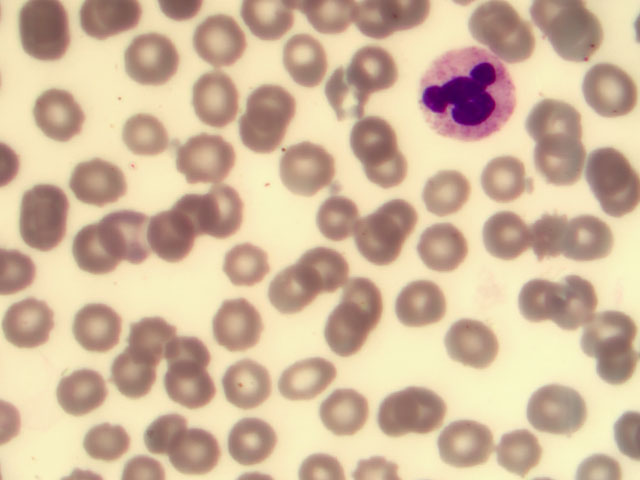RBC: (19, 13, 74, 68), (123, 32, 178, 87), (37, 87, 92, 142), (117, 109, 172, 164), (178, 129, 233, 184), (188, 66, 243, 121), (192, 15, 247, 70), (229, 110, 284, 165), (243, 80, 298, 135), (272, 30, 327, 85), (306, 67, 361, 122), (335, 46, 390, 101), (345, 107, 400, 162), (355, 141, 410, 196), (274, 143, 329, 198), (305, 187, 360, 242), (346, 219, 401, 274), (368, 193, 423, 248), (413, 173, 468, 228), (465, 149, 520, 204), (524, 141, 579, 196), (531, 100, 586, 155), (585, 54, 640, 109), (496, 21, 551, 76), (541, 9, 596, 64), (577, 139, 632, 194), (585, 168, 640, 223), (559, 219, 614, 274), (516, 210, 571, 265), (477, 208, 532, 263), (417, 218, 472, 273), (397, 277, 452, 332), (447, 315, 502, 370), (507, 283, 562, 338), (553, 271, 608, 326), (583, 304, 638, 359), (585, 333, 640, 388), (532, 378, 587, 433), (493, 424, 548, 479), (441, 418, 496, 473), (405, 386, 460, 441), (365, 387, 420, 442), (319, 385, 374, 440), (273, 350, 328, 405), (319, 309, 374, 364), (339, 274, 394, 329), (308, 243, 363, 298), (265, 263, 320, 318), (223, 240, 278, 295), (210, 190, 265, 245), (182, 187, 237, 242), (155, 208, 210, 263), (103, 205, 158, 260), (77, 226, 132, 281), (72, 159, 127, 214), (17, 207, 72, 262), (22, 174, 77, 229), (8, 287, 63, 342), (67, 307, 122, 362), (128, 310, 183, 365), (156, 331, 211, 386), (170, 361, 225, 416), (112, 356, 167, 411), (219, 297, 274, 352), (64, 367, 119, 422), (81, 405, 136, 460), (134, 401, 189, 456), (162, 421, 217, 476), (224, 417, 279, 472), (460, 1, 515, 55)
WBC: (419, 53, 516, 141)
